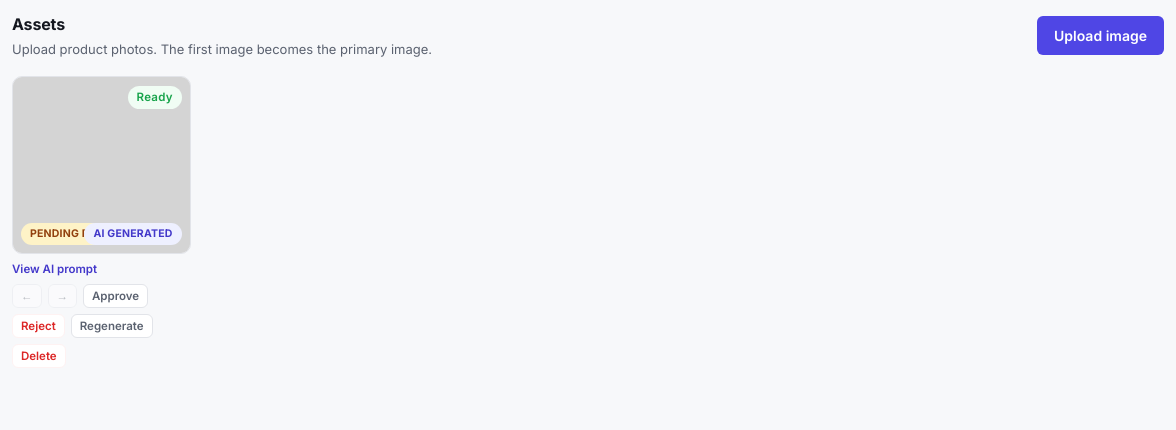
Test: AssetManager › shows the AI-generated prompt for an AI-generated asset behind a toggle
The width and height of the screenshot is (1176, 430).
Expected: the text "a red ceramic mug" is not shown
Click the button "View AI prompt": [55, 269] box [12,262,97,276]
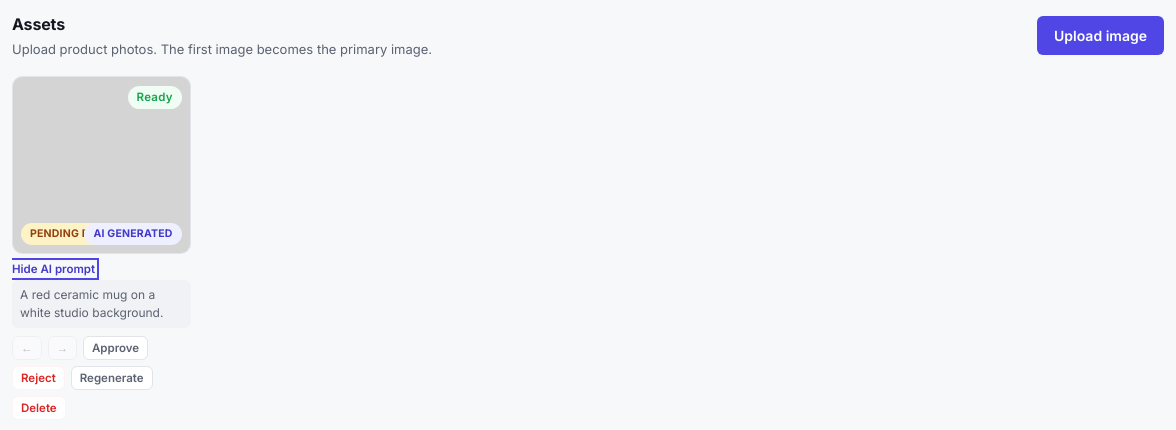
Now the text "A red ceramic mug on a white studio background." is shown, box [12,280,191,328]
